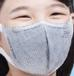with_mask: (1, 1, 74, 76)
